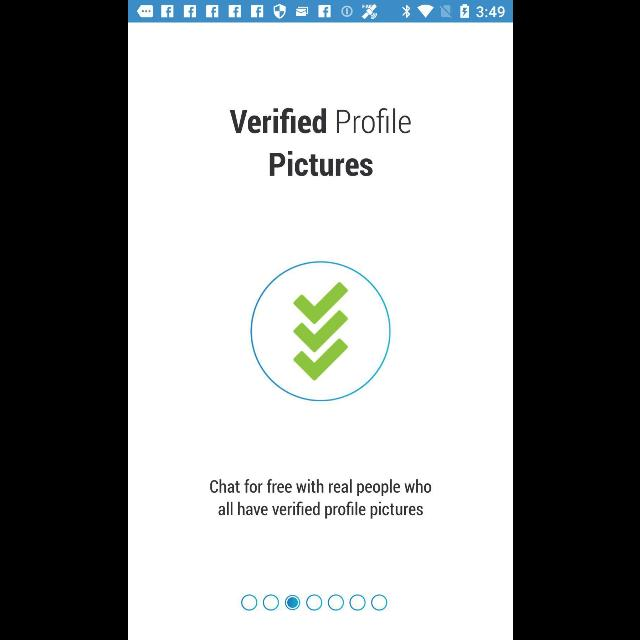image: (250, 261, 390, 401)
pageindicator: (240, 594, 386, 610)
text: (228, 108, 410, 176), (210, 479, 430, 519)
uppertaskbar: (128, 1, 512, 23)
